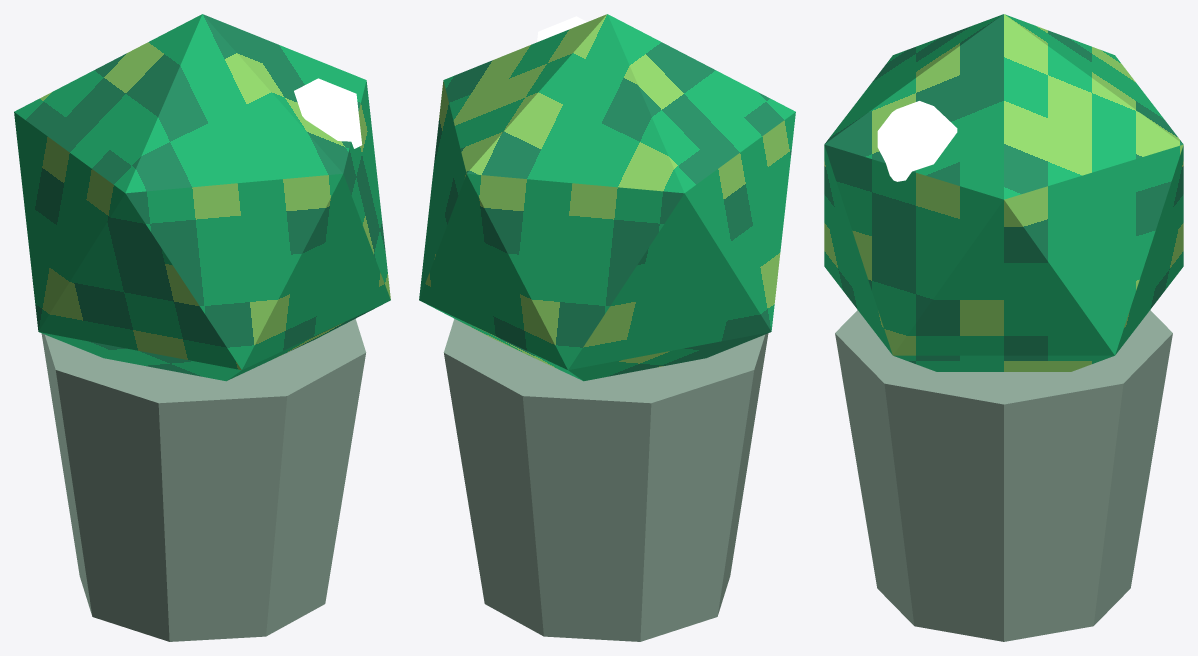
File: movel_r03_09.glb
The picture shows the model from 3 angles, left to right: view 1: azimuth 30°, elevation 25°; view 2: azimuth 150°, elevation 25°; view 3: azimuth 270°, elevation 25°; orthographic projection.
Parts seen in each view (by area): view 1: movel_r03_09; view 2: movel_r03_09; view 3: movel_r03_09.
Part boxes in pixels (x1,y1,x2,y2): movel_r03_09: (14,14,390,641); movel_r03_09: (419,14,795,641); movel_r03_09: (824,14,1183,641).
Size of the model in its own units: 0.5367 by 0.9 by 0.5104.
3 materials, 1 textured.
